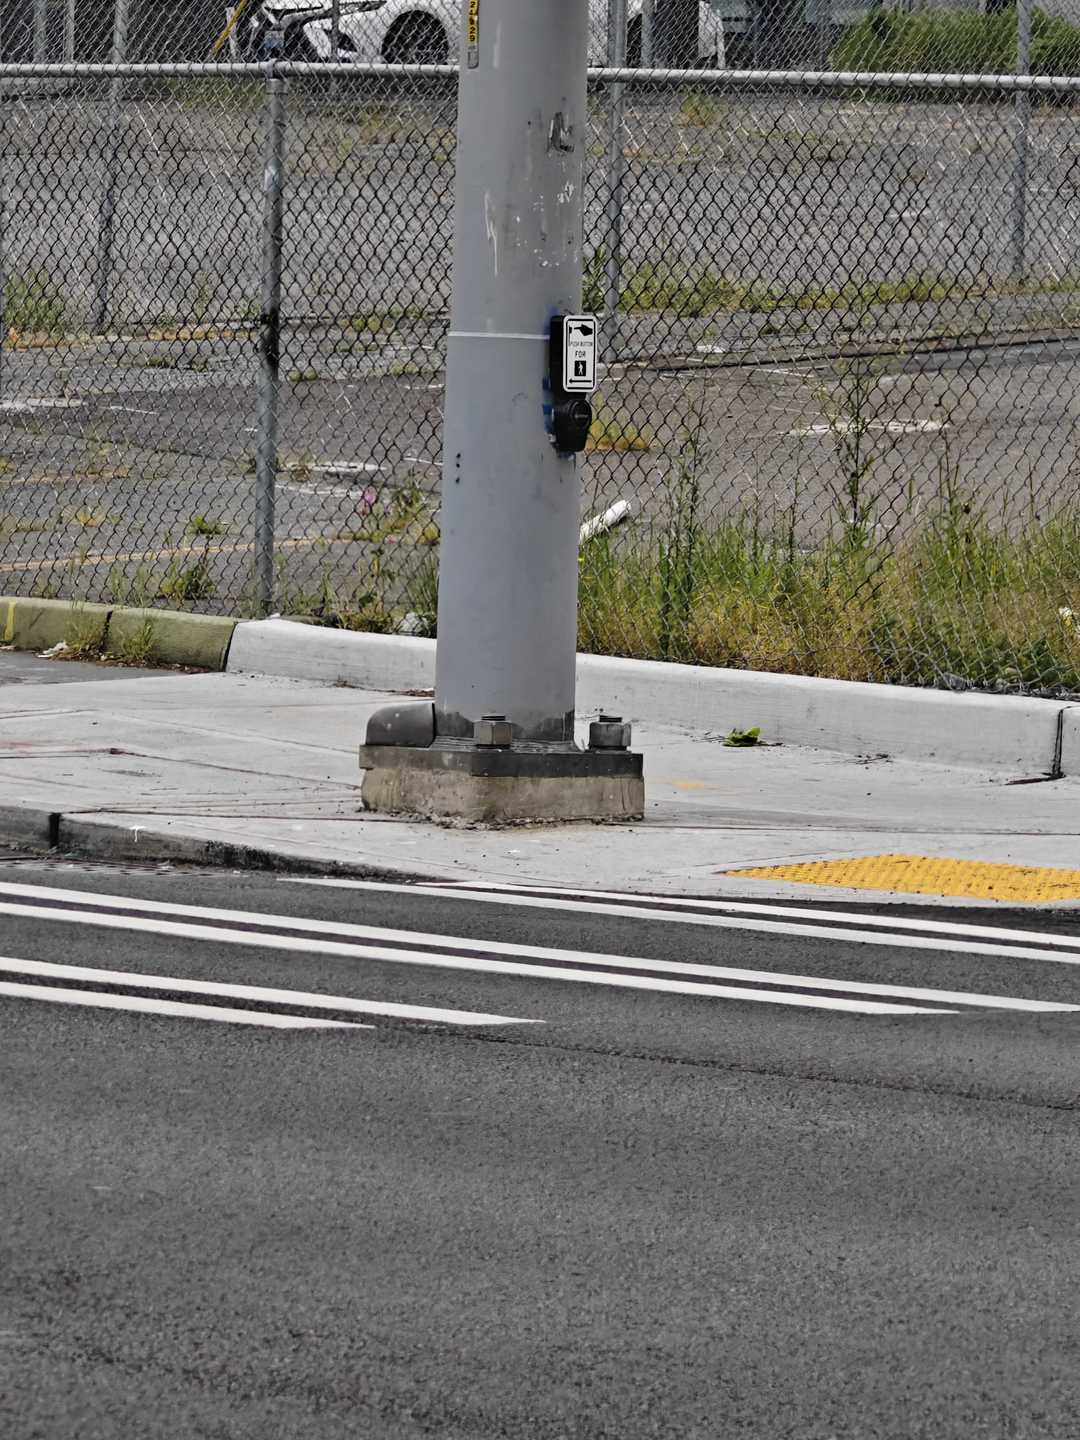ped_button: (564, 311, 601, 456)
